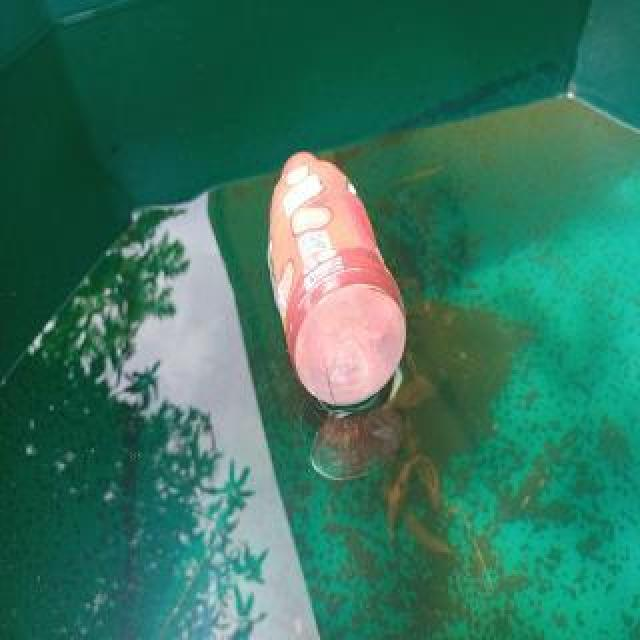bottle: (270, 149, 408, 407)
